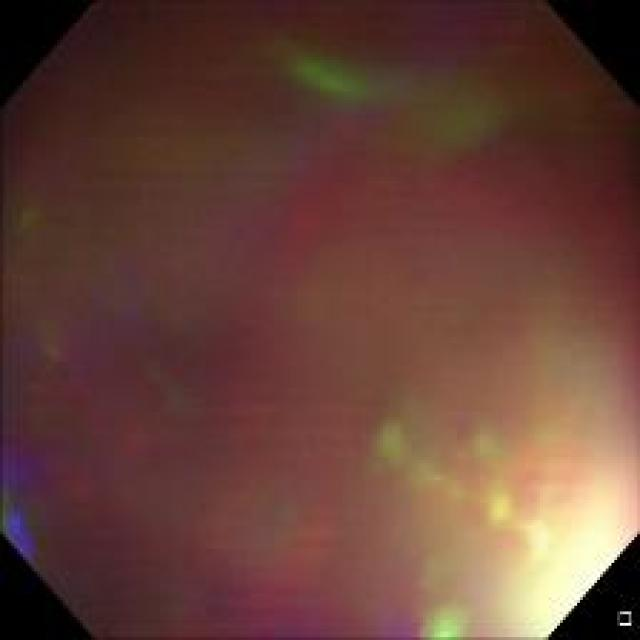color misalignment: (8, 8, 634, 631), (375, 399, 545, 556), (266, 34, 504, 145)
saturation: (475, 489, 631, 632)
